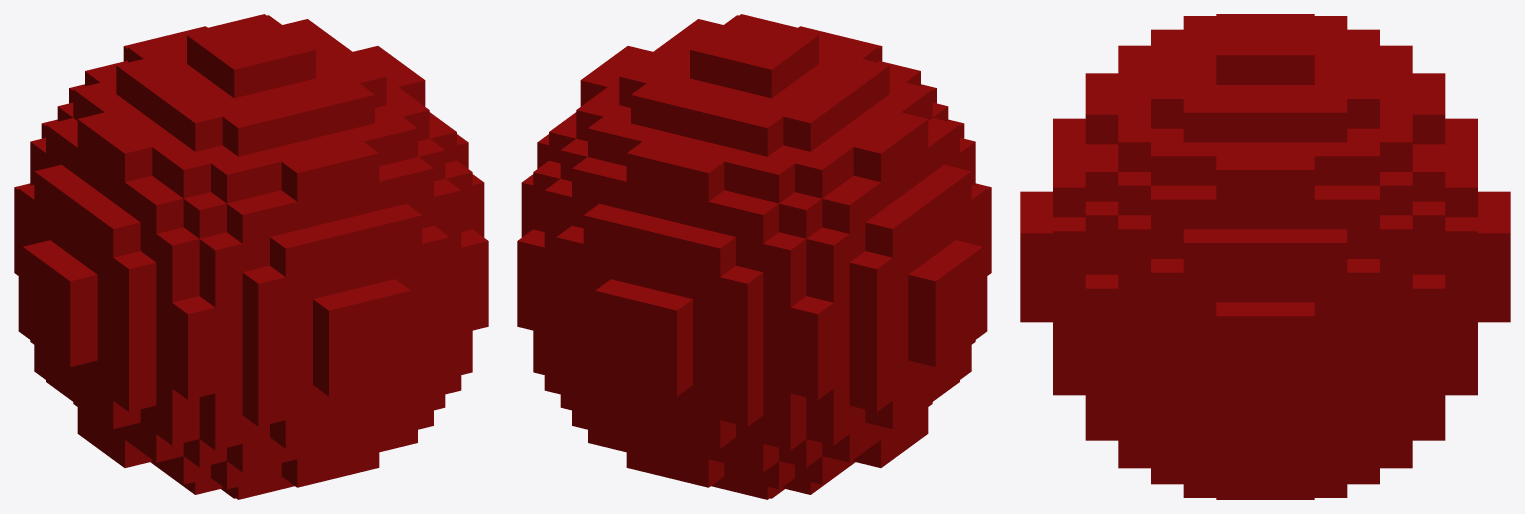
Rendered from ColorSphere.fbx.
3 renders of one model, left to right at view 1: azimuth 30°, elevation 25°; view 2: azimuth 150°, elevation 25°; view 3: azimuth 270°, elevation 25°, orthographic. The views are drawn at different scales.
Visible parts, largest first — view 1: Sphere; view 2: Sphere; view 3: Sphere.
Boxes of the visible parts, x1,y1,x2,y2 form: Sphere: (14, 14, 488, 499); Sphere: (517, 14, 991, 499); Sphere: (1020, 14, 1510, 499).
Size of the model in its own units: 208 by 208 by 208.
